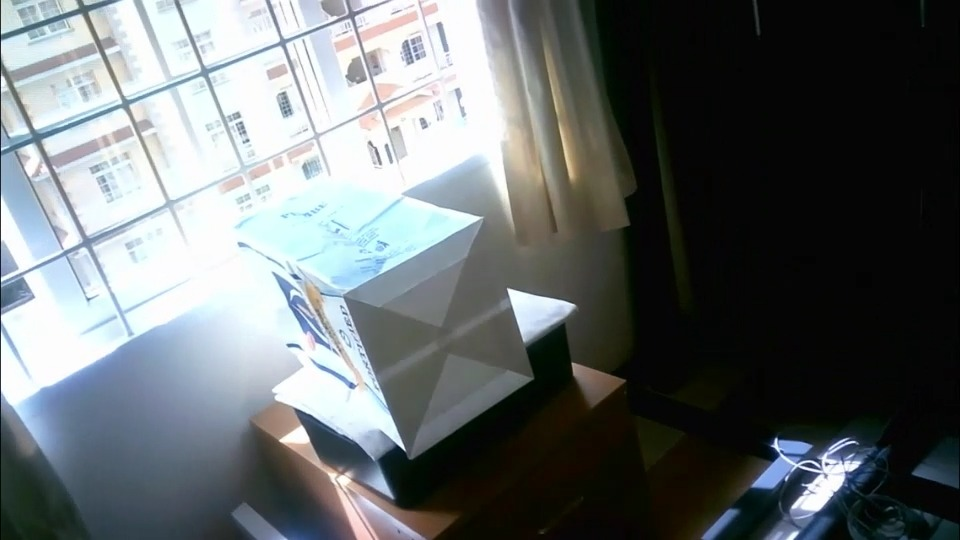wheat_flour_blue_label: (234, 178, 533, 458)
